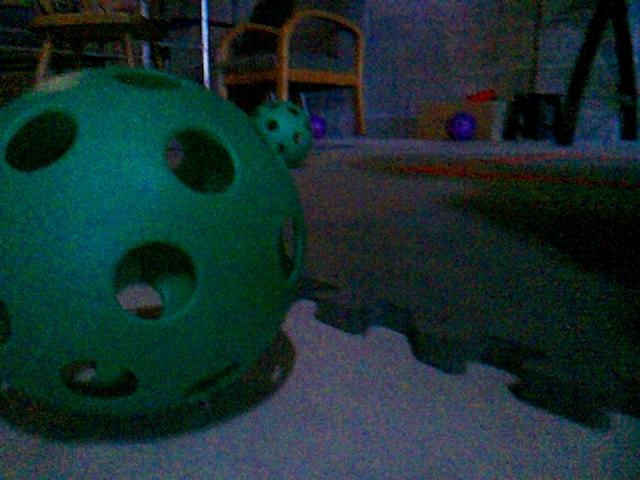Green: (0, 68, 312, 427), (249, 97, 313, 167), (444, 111, 476, 140), (308, 113, 327, 137)
